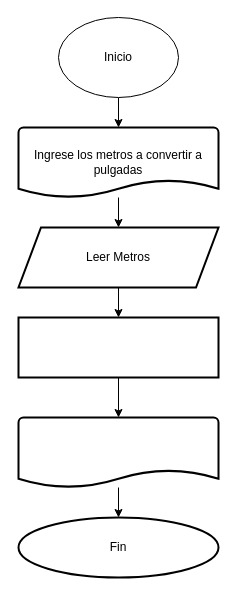
This 236x596 diagram has some shape labels left out. Each missing label, with the box of its shape:
La conversión final es, "Pulgadas": (17, 416, 219, 488)
Pulgadas = (Metros*100) / 2.54: (17, 316, 219, 378)
